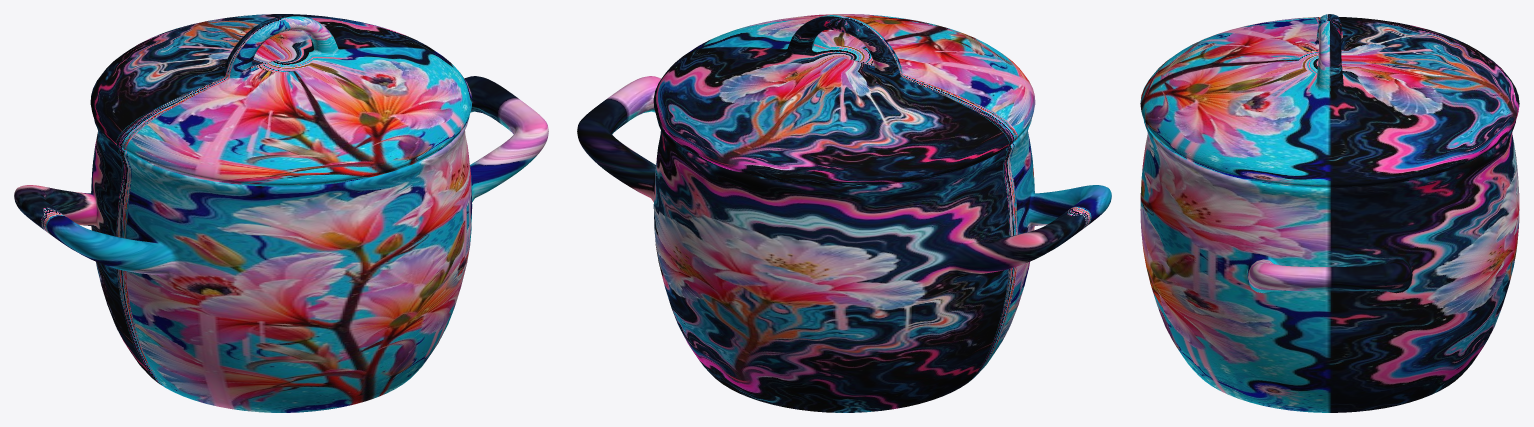
The model's file is ph_pot_enamel_01.glb.
3 renders of one model, left to right at view 1: azimuth 30°, elevation 25°; view 2: azimuth 150°, elevation 25°; view 3: azimuth 270°, elevation 25°, orthographic.
Visible parts, largest first — view 1: A; view 2: A; view 3: A.
Part boxes in pixels (box(x1,y1,x2,y2)): A: box(14, 14, 548, 412); A: box(577, 14, 1111, 412); A: box(1140, 14, 1519, 412).
Size of the model in its own units: 2 by 1.36 by 1.37.
Materials: 2 (2 with a texture image).
